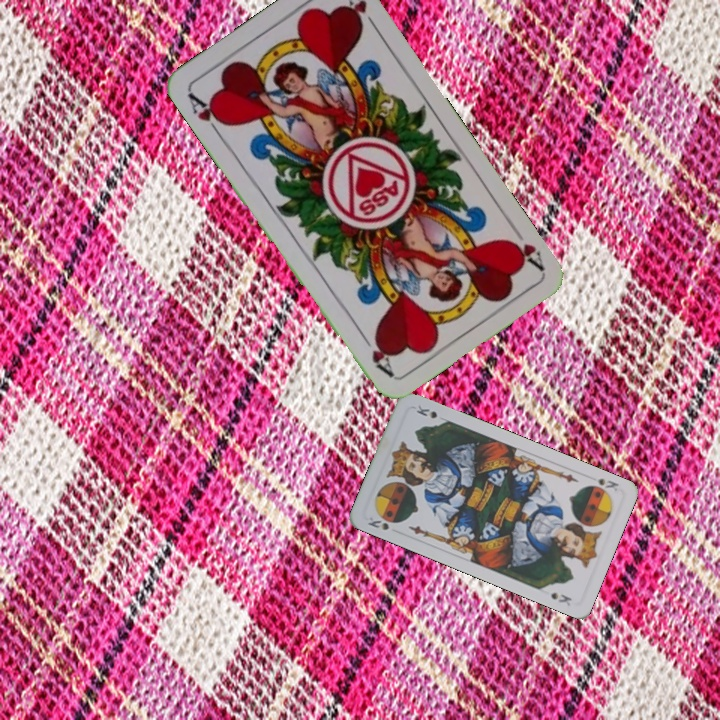HA: (184, 89, 230, 141), (502, 220, 546, 273)
SK: (593, 474, 621, 494), (364, 513, 391, 533)
